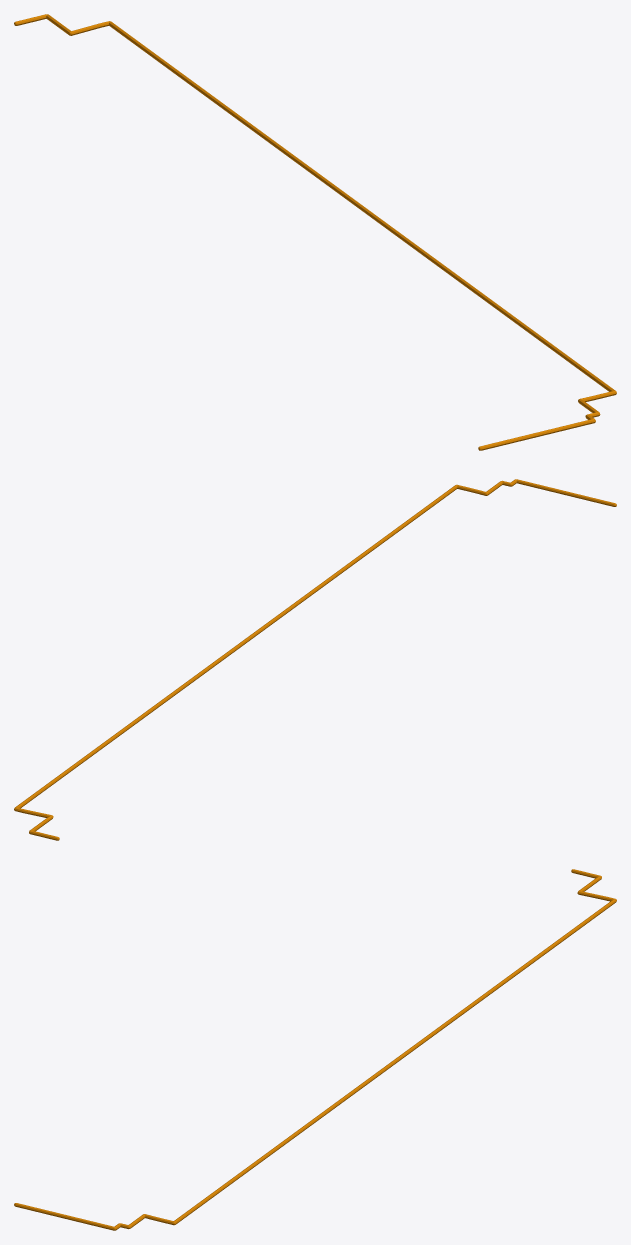
3 views of the same model, one above another, from view 1: azimuth 30°, elevation 25°; view 2: azimuth 150°, elevation 25°; view 3: azimuth 330°, elevation 25° (orthographic). The views are drawn at different scales.
Bounding box in the file's own units: 786 × 20 × 4660.
